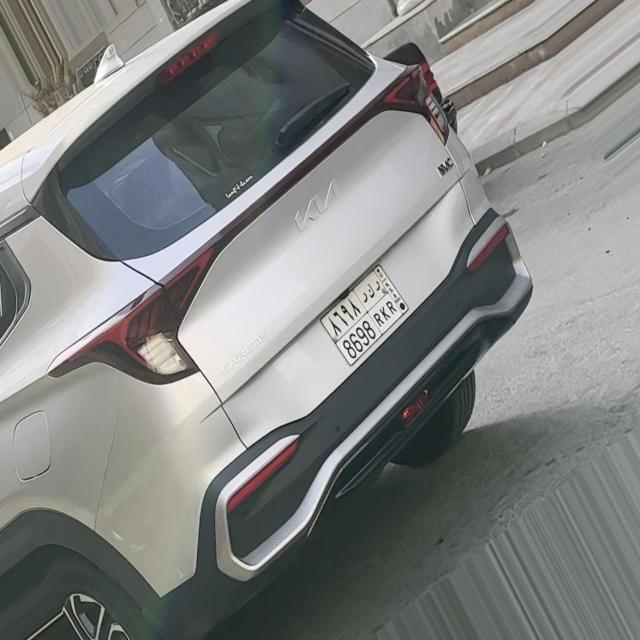Car-plate: (302, 253, 427, 386)
